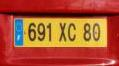0: (92, 22, 102, 42)
1: (46, 22, 53, 42)
6: (27, 22, 36, 41)
8: (83, 22, 92, 42)
9: (37, 22, 46, 42)
C: (67, 22, 77, 42)
X: (58, 21, 67, 42)
